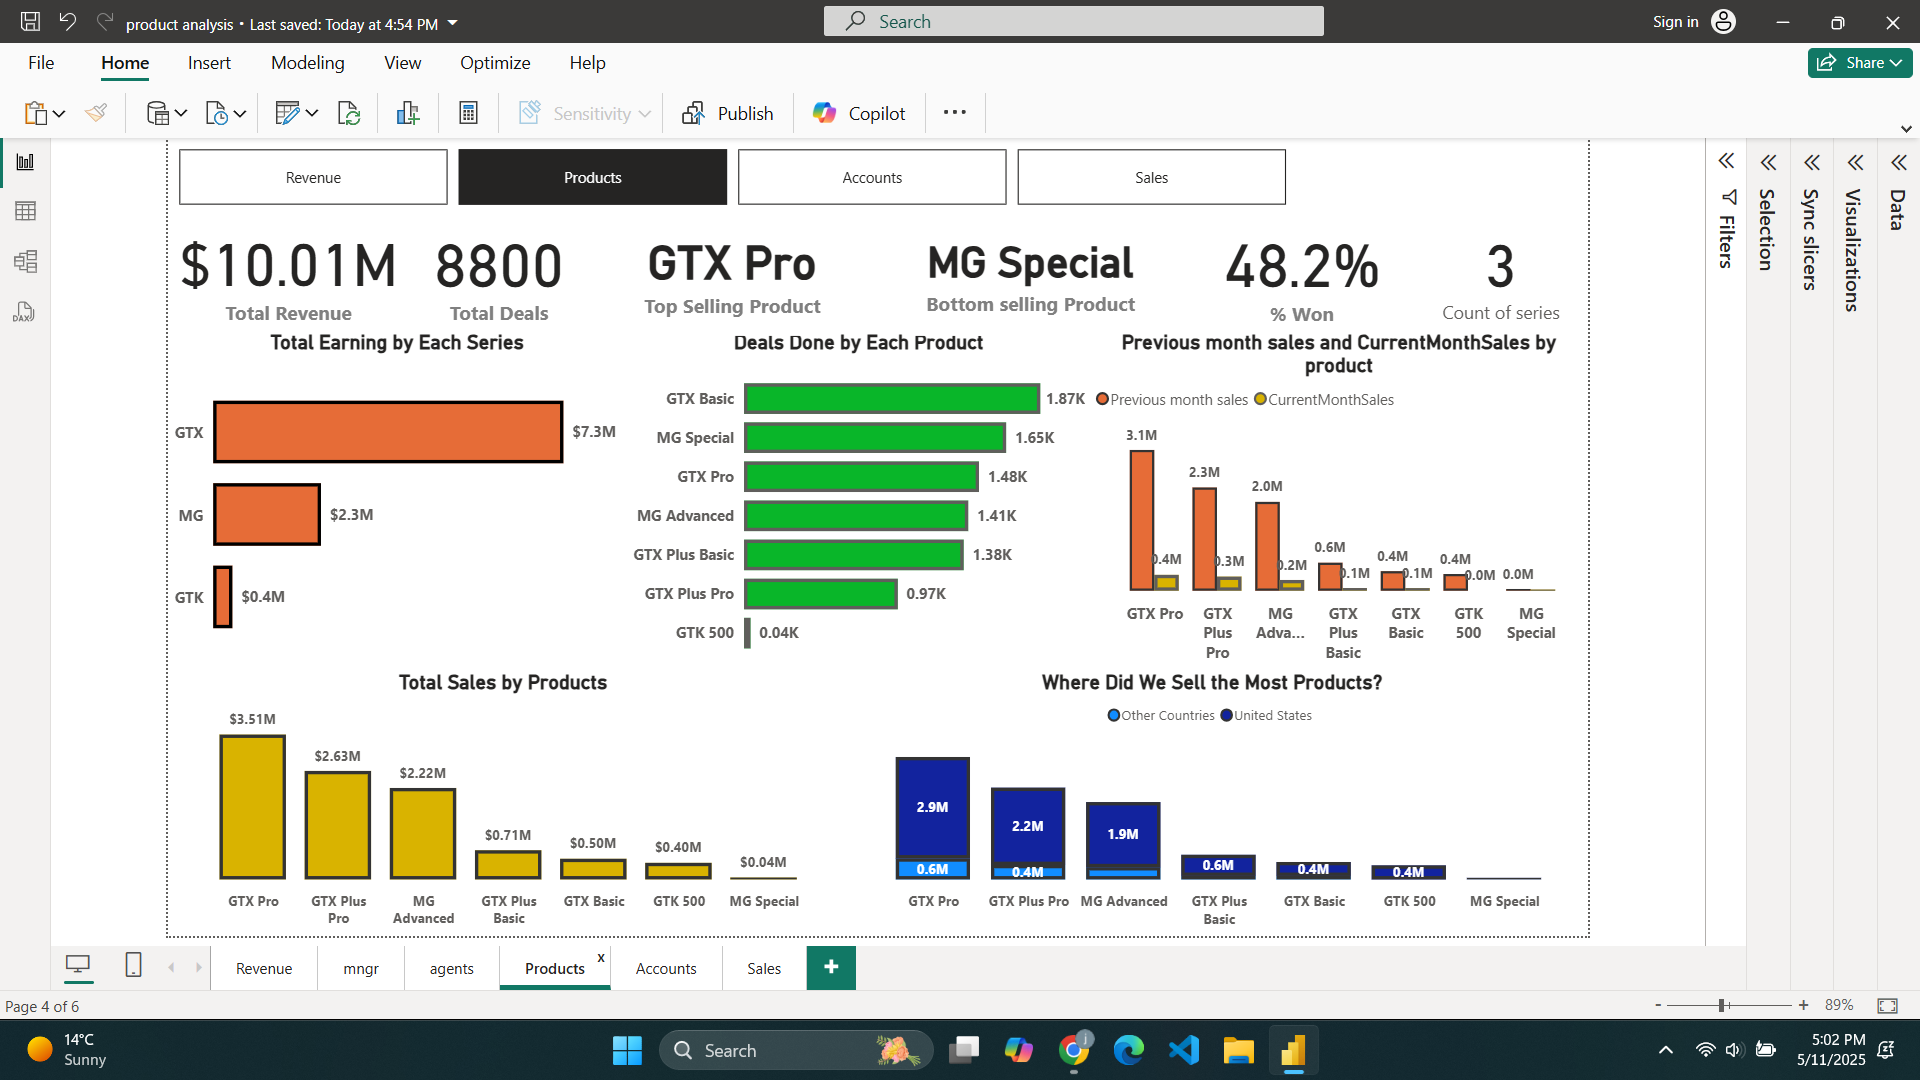

What the dashboard file says about the page in this screenshot:
{"tool":"powerbi","page":{"name":"Products","canvas":[1280,720],"ordinal":3},"visuals":[{"type":"card","fields":{"Values":["CountNonNull(sales_pipeline.deal_stage)"]},"box":[218.6,60.6,160,117.1],"z":0},{"type":"card","fields":{"Values":["Sum(sales_pipeline.close_value)"]},"box":[0,60.6,218.2,116.7],"z":1000},{"type":"card","fields":{"Values":["sales_pipeline.Win Percentage"]},"box":[941.8,61.8,161.1,116.2],"z":2000},{"type":"columnChart","title":"Total Sales by Products","fields":{"Category":["products.product"],"Y":["Sum(sales_pipeline.close_value)"]},"box":[0,480.4,604.5,239.6],"z":3000},{"type":"barChart","title":"Total Earning by Each Series","fields":{"Category":["products.series"],"Y":["Sum(sales_pipeline.close_value)"]},"box":[0,173.8,413.3,306.6],"z":4000},{"type":"barChart","title":"Deals Done by Each Product","fields":{"Category":["products.product"],"Y":["sales_pipeline.dealscount"]},"box":[413.3,173.8,418.3,306.6],"z":5000},{"type":"columnChart","title":"Where Did We Sell the Most Products?","fields":{"Y":["Sum(sales_pipeline.close_value)"],"Category":["products.product"],"Series":["accounts.office_location (groups)"]},"box":[604.5,480.4,675.3,239.6],"z":6000},{"type":"card","fields":{"Values":["Count(products.series)"]},"box":[1125.1,60.6,154.9,116.5],"z":7000},{"type":"card","fields":{"Values":["sales_pipeline.topsell"]},"box":[413.4,60.6,191.1,117.4],"z":8000},{"type":"card","fields":{"Values":["sales_pipeline.Bottomsell"]},"box":[670.7,60.6,214.8,117.4],"z":9000},{"type":"clusteredColumnChart","fields":{"Category":["products.product"],"Y":["sales_pipeline.Previous month sales","sales_pipeline.CurrentMonthSales"]},"box":[831.7,173.8,448.1,306.6],"z":10000},{"type":"pageNavigator","box":[10,10,1000,50],"z":11000}]}

Visuals, with their boxes on the page's 1280x720 design canvas (x1, y1, x2, y2). These are canvas units, not pixel positions in the 1920x1080 screenshot, which may show the page scaled, cropped or inside an application window:
card - CountNonNull(sales_pipeline.deal_stage): [219, 61, 379, 178]
card - Sum(sales_pipeline.close_value): [0, 61, 218, 177]
card - sales_pipeline.Win Percentage: [942, 62, 1103, 178]
"Total Sales by Products" columnChart: [0, 480, 604, 720]
"Total Earning by Each Series" barChart: [0, 174, 413, 480]
"Deals Done by Each Product" barChart: [413, 174, 832, 480]
"Where Did We Sell the Most Products?" columnChart: [604, 480, 1280, 720]
card - Count(products.series): [1125, 61, 1280, 177]
card - sales_pipeline.topsell: [413, 61, 604, 178]
card - sales_pipeline.Bottomsell: [671, 61, 886, 178]
clusteredColumnChart - products.product x sales_pipeline.Previous month sales: [832, 174, 1280, 480]
pageNavigator: [10, 10, 1010, 60]
